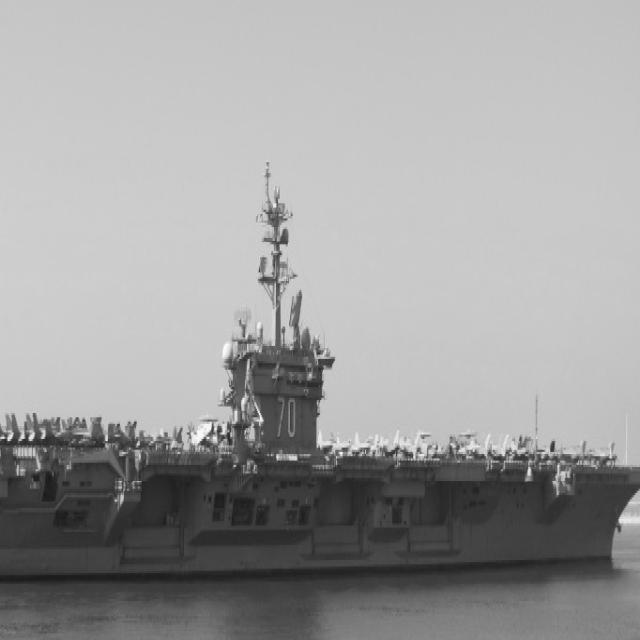Portanaves: (1, 157, 640, 594)
